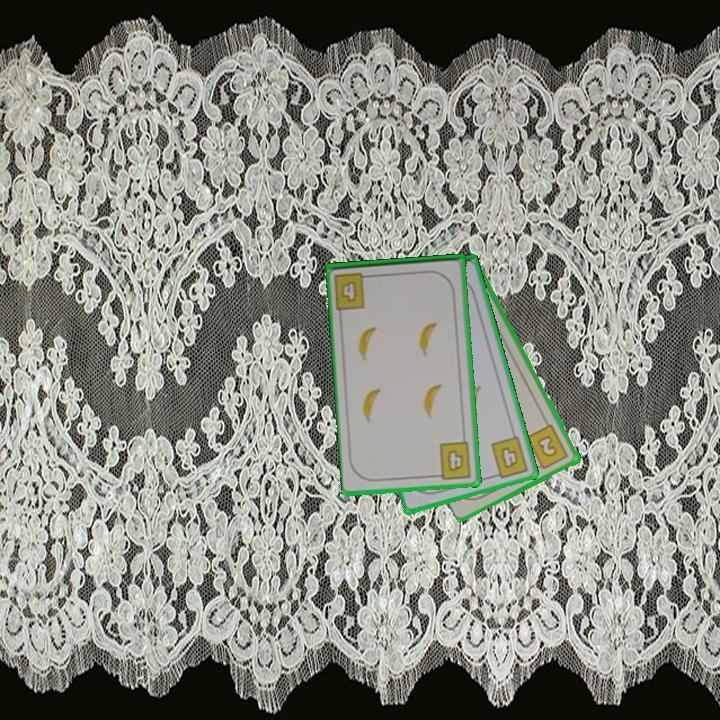2b: (523, 421, 571, 473)
4b: (487, 433, 532, 481), (331, 269, 376, 312), (431, 438, 474, 482)
